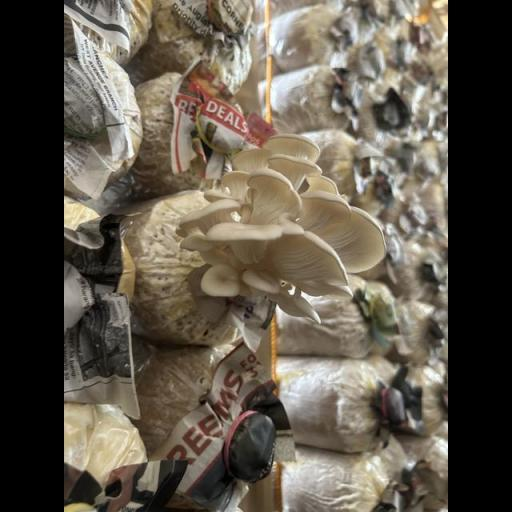White Oyster Mushroom: (169, 127, 391, 324)
